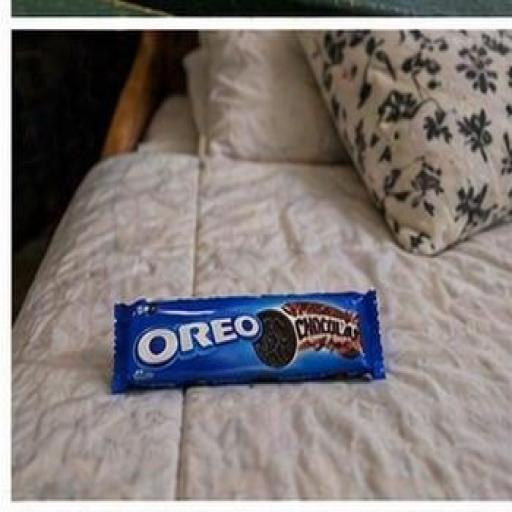oreo: (85, 248, 425, 428)
